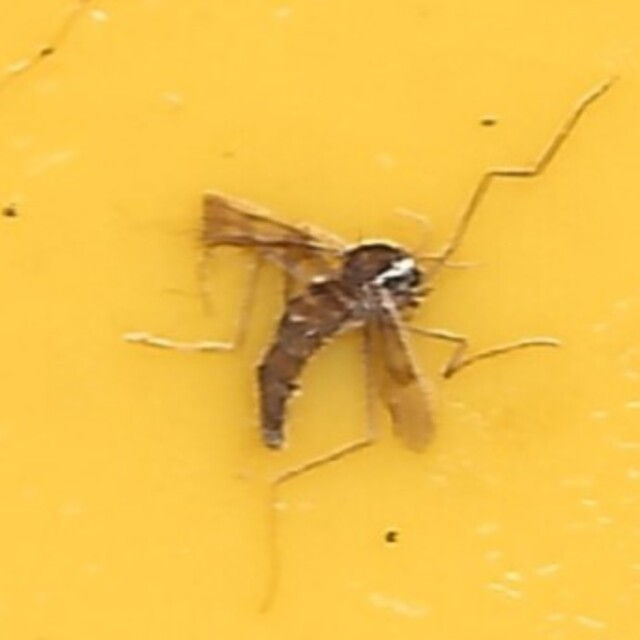Nematocera: (187, 181, 453, 459)
